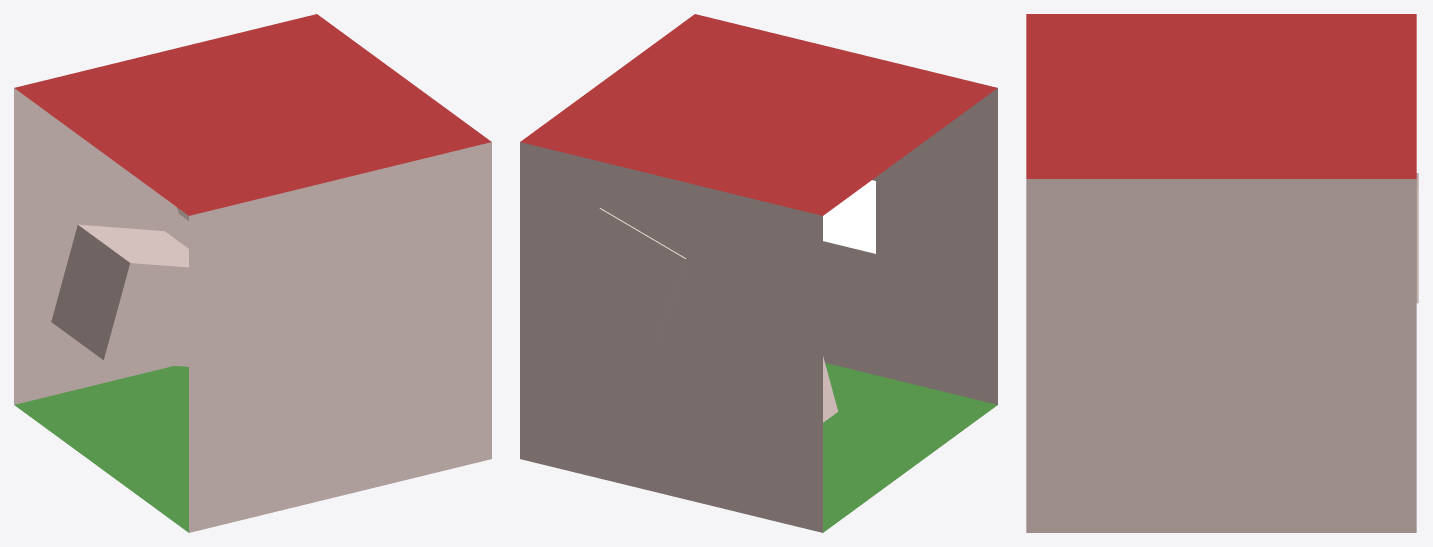
Rendered from cornell.glb.
3 renders of one model, left to right at view 1: azimuth 30°, elevation 25°; view 2: azimuth 150°, elevation 25°; view 3: azimuth 270°, elevation 25°, orthographic. The views are drawn at different scales.
Parts seen in each view (by area): view 1: cornell; view 2: cornell; view 3: cornell.
Part boxes in pixels (x1,y1,x2,y2): cornell: (14, 14, 491, 532); cornell: (520, 14, 997, 532); cornell: (1026, 14, 1418, 532).
Size of the model in its own units: 2 by 2 by 2.01.
